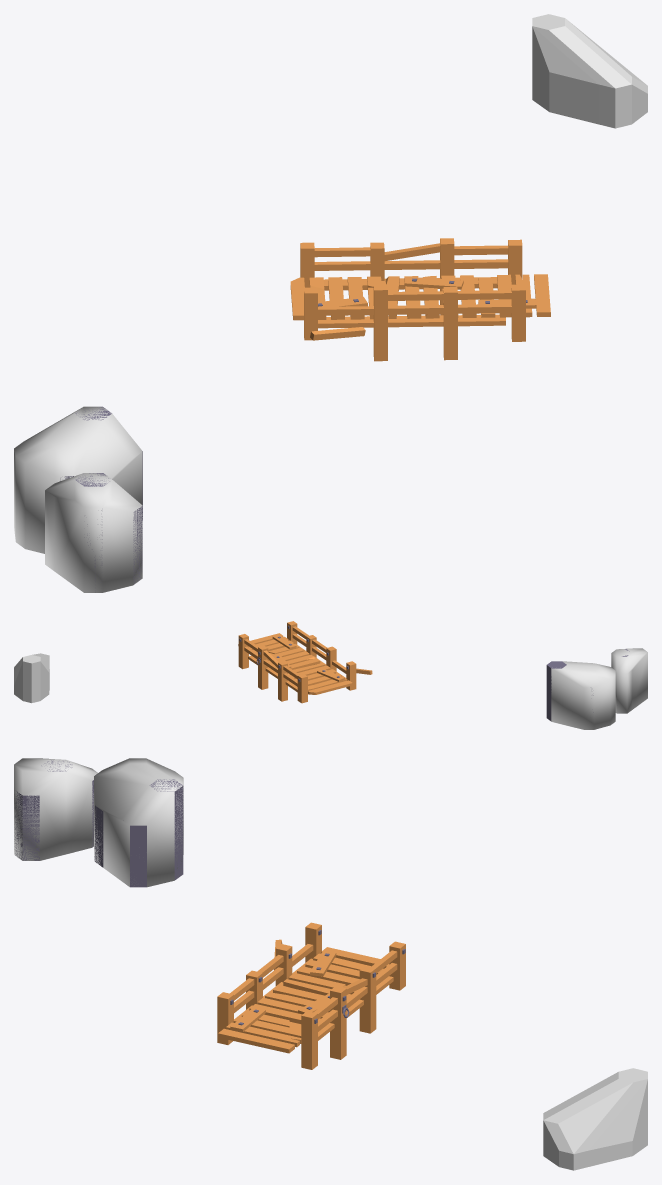
The model's file is motri-scenery.glb.
3 renders of one model, top to bottom at view 1: azimuth 30°, elevation 25°; view 2: azimuth 150°, elevation 25°; view 3: azimuth 270°, elevation 25°, orthographic. The views are drawn at different scales.
Visible parts, largest first — view 1: bridgePhysicalFixed, hull.016, hull.015, hull.002, basaltRocksPhysicalStatic.001; view 2: bridgePhysicalFixed, hull.015, hull.016, hull.002, basaltRocksPhysicalStatic.001; view 3: bridgePhysicalFixed, hull.015, hull.002, hull.016, basaltRocksPhysicalStatic.001.
Part boxes in pixels (x1,y1,x2,y2): bridgePhysicalFixed: [290, 238, 550, 361]; hull.016: [45, 473, 142, 592]; hull.015: [14, 406, 142, 553]; hull.002: [532, 14, 647, 128]; basaltRocksPhysicalStatic.001: [60, 406, 142, 592]; bridgePhysicalFixed: [238, 621, 372, 703]; hull.015: [551, 661, 615, 729]; hull.016: [611, 648, 647, 713]; hull.002: [14, 653, 49, 703]; basaltRocksPhysicalStatic.001: [546, 649, 629, 721]; bridgePhysicalFixed: [217, 922, 405, 1069]; hull.015: [94, 758, 183, 887]; hull.002: [543, 1068, 647, 1170]; hull.016: [14, 758, 97, 860]; basaltRocksPhysicalStatic.001: [14, 760, 183, 887].
Size of the model in its own units: 39.73 by 5.47 by 27.89.
1 material, 1 textured.
